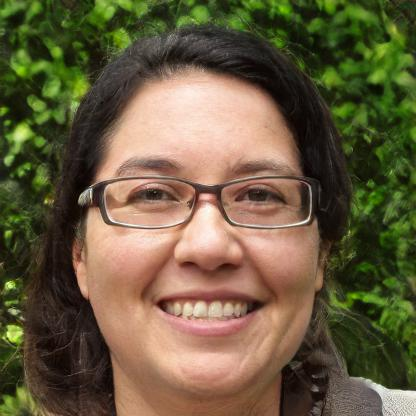glasses: (84, 172, 320, 240)
